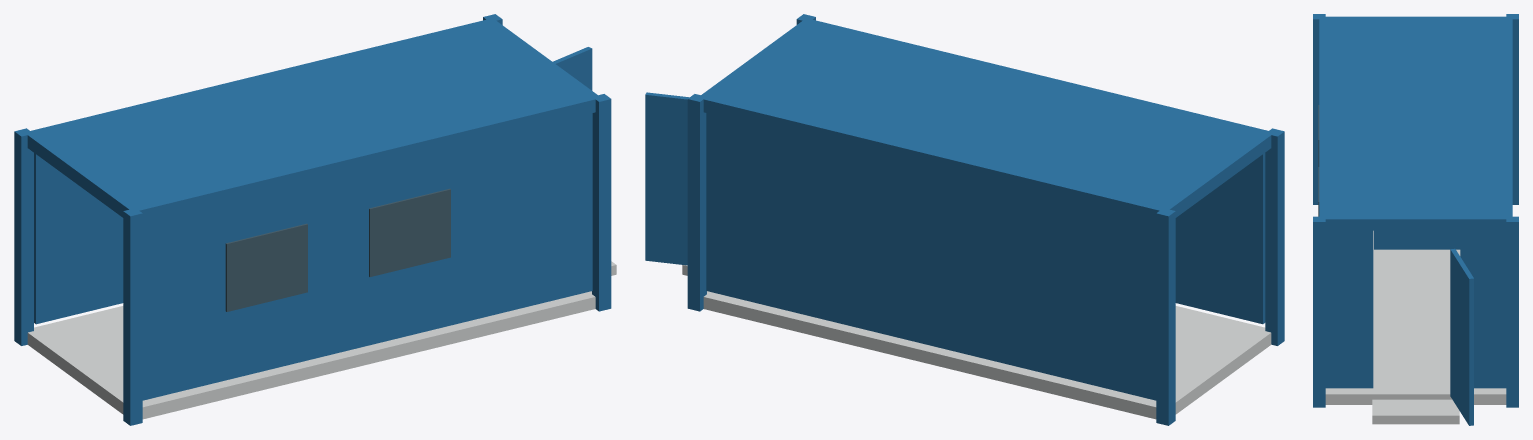
Rendered from HomebaseOfficeContainer_LOD01.gltf.
The picture shows the model from 3 angles, left to right: view 1: azimuth 30°, elevation 25°; view 2: azimuth 150°, elevation 25°; view 3: azimuth 270°, elevation 25°; orthographic projection. The views are drawn at different scales.
Visible parts, largest first — view 1: OfficeContainerLOD01WindowWall, OfficeContainerLOD01Roof, OfficeContainerLOD01Floor, OfficeContainerLOD01FarWall, OfficeContainerLOD01Window01, OfficeContainerLOD01Window02, OfficeContainerLOD01Corner01, OfficeContainerLOD01Corner03, OfficeContainerLOD01Corner02, OfficeContainerLOD01DoorPanel; view 2: OfficeContainerLOD01FarWall, OfficeContainerLOD01Roof, OfficeContainerLOD01Floor, OfficeContainerLOD01WindowWall, OfficeContainerLOD01DoorPanel, OfficeContainerLOD01Corner02, OfficeContainerLOD01Corner04, OfficeContainerLOD01Corner01; view 3: OfficeContainerLOD01Roof, OfficeContainerLOD01Floor, OfficeContainerLOD01DoorEndNear, OfficeContainerLOD01DoorEndFar, OfficeContainerLOD01DoorPanel, OfficeContainerLOD01Corner03, OfficeContainerLOD01Corner04, OfficeContainerLOD01EntryStep, OfficeContainerLOD01DoorHeader, OfficeContainerLOD01Corner02, OfficeContainerLOD01Corner01.
Boxes of the visible parts, x1,y1,x2,y2 form: OfficeContainerLOD01WindowWall: (142, 113, 592, 400); OfficeContainerLOD01Roof: (24, 18, 601, 222); OfficeContainerLOD01Floor: (27, 291, 595, 419); OfficeContainerLOD01FarWall: (34, 153, 123, 324); OfficeContainerLOD01Window01: (225, 223, 307, 311); OfficeContainerLOD01Window02: (369, 188, 450, 276); OfficeContainerLOD01Corner01: (123, 209, 142, 425); OfficeContainerLOD01Corner03: (592, 94, 611, 311); OfficeContainerLOD01Corner02: (14, 128, 33, 345); OfficeContainerLOD01DoorPanel: (552, 47, 592, 90); OfficeContainerLOD01FarWall: (706, 113, 1156, 400); OfficeContainerLOD01Roof: (697, 18, 1274, 222); OfficeContainerLOD01Floor: (703, 291, 1271, 419); OfficeContainerLOD01WindowWall: (1175, 153, 1265, 324); OfficeContainerLOD01DoorPanel: (645, 92, 689, 265); OfficeContainerLOD01Corner02: (1156, 209, 1175, 425); OfficeContainerLOD01Corner04: (687, 94, 706, 311); OfficeContainerLOD01Corner01: (1265, 128, 1284, 345); OfficeContainerLOD01Roof: (1319, 16, 1512, 230); OfficeContainerLOD01Floor: (1325, 230, 1506, 404); OfficeContainerLOD01DoorEndNear: (1325, 230, 1373, 388); OfficeContainerLOD01DoorEndFar: (1460, 230, 1506, 388); OfficeContainerLOD01DoorPanel: (1450, 248, 1473, 425); OfficeContainerLOD01Corner03: (1313, 216, 1325, 407); OfficeContainerLOD01Corner04: (1506, 216, 1518, 407); OfficeContainerLOD01EntryStep: (1372, 399, 1459, 424); OfficeContainerLOD01DoorHeader: (1374, 230, 1460, 249); OfficeContainerLOD01Corner02: (1506, 14, 1518, 204); OfficeContainerLOD01Corner01: (1313, 14, 1325, 204).
Bounding box in the file's own units: 7.11 × 2.59 × 2.6.
